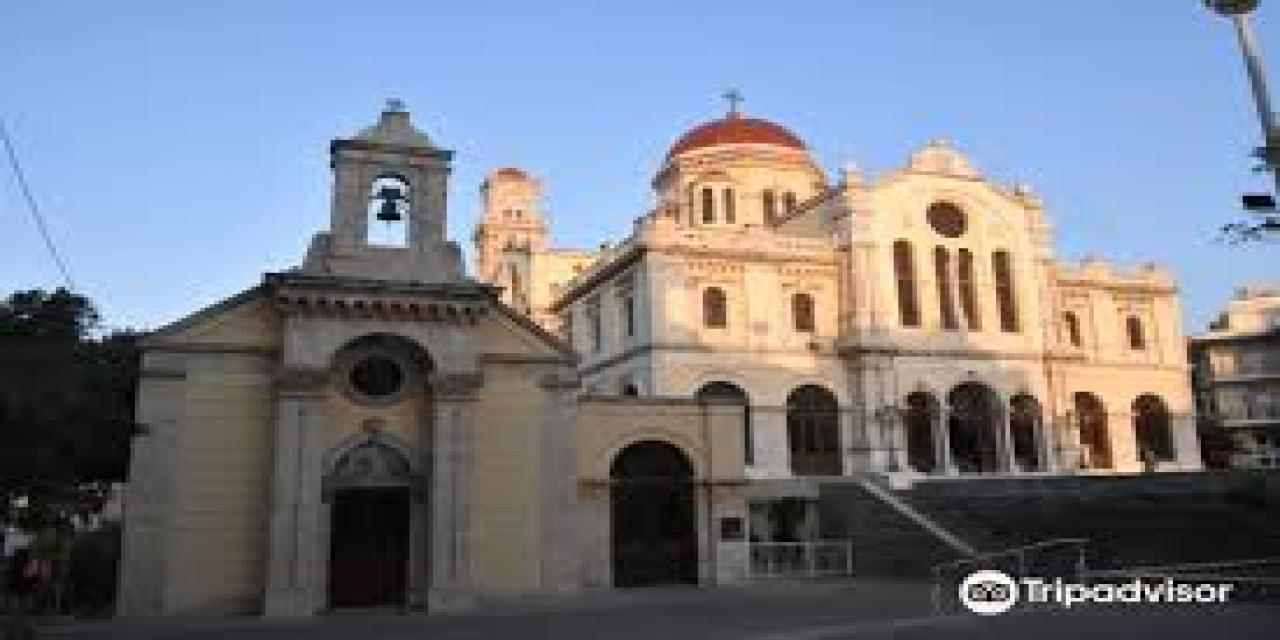Agios Minas: (125, 107, 1207, 601)
